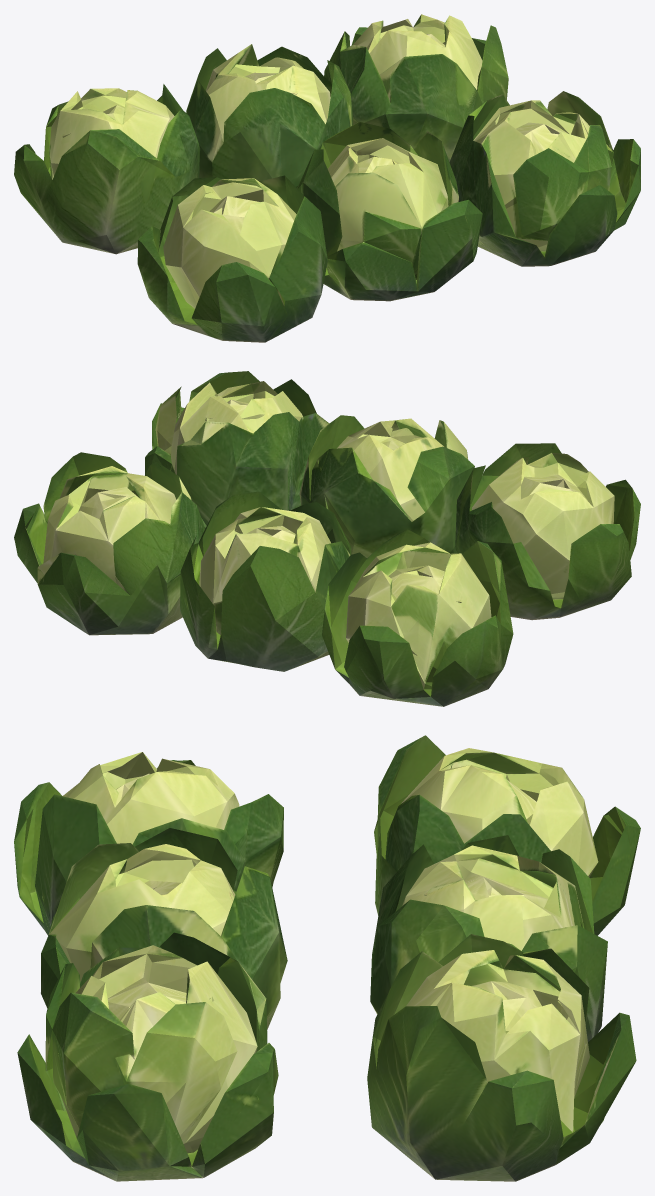
File: lettuce.glb
3 views of the same model, one above another, from view 1: azimuth 30°, elevation 25°; view 2: azimuth 150°, elevation 25°; view 3: azimuth 270°, elevation 25° (orthographic). The views are drawn at different scales.
Visible parts, largest first — view 1: geometry_0; view 2: geometry_0; view 3: geometry_0.
Boxes of the visible parts, x1=… form: geometry_0: x1=14, y1=14, x2=640, y2=342; geometry_0: x1=14, y1=371, x2=640, y2=706; geometry_0: x1=14, y1=735, x2=640, y2=1181.
Size of the model in its own units: 1.6 by 0.4084 by 1.3.
1 material, 1 textured.
